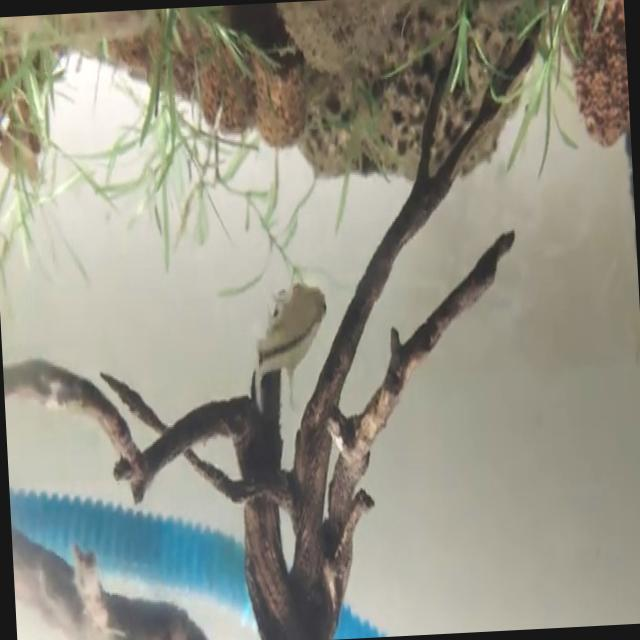Cakil Baligi: (248, 274, 336, 406)
